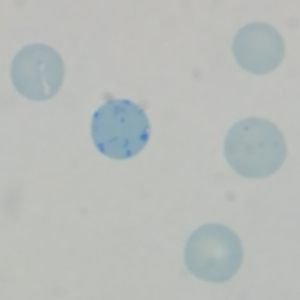aggregate reticulocyte: (88, 97, 153, 162)
erythrocyte: (182, 222, 245, 286), (8, 42, 66, 103), (231, 20, 287, 76)
punctate reticulocyte: (220, 115, 289, 181)
